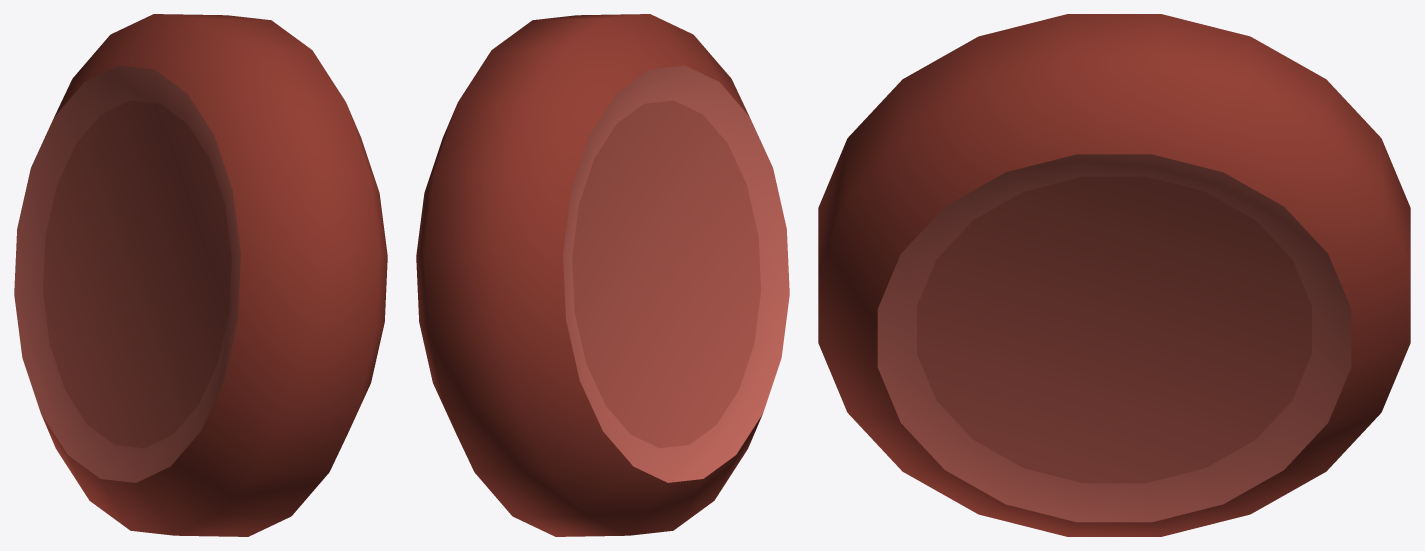
File: tyrian10-26-f3.glb
3 renders of one model, left to right at view 1: azimuth 30°, elevation 25°; view 2: azimuth 150°, elevation 25°; view 3: azimuth 270°, elevation 25°, orthographic. The views are drawn at different scales.
Parts seen in each view (by area): view 1: tyrian10-26-f3; view 2: tyrian10-26-f3; view 3: tyrian10-26-f3.
Part boxes in pixels (left/top/right/bottom): tyrian10-26-f3: left=14, top=14, right=387, bottom=536; tyrian10-26-f3: left=416, top=14, right=789, bottom=536; tyrian10-26-f3: left=818, top=14, right=1410, bottom=536.
Size of the model in its own units: 0.3859 by 0.749 by 0.7408.
